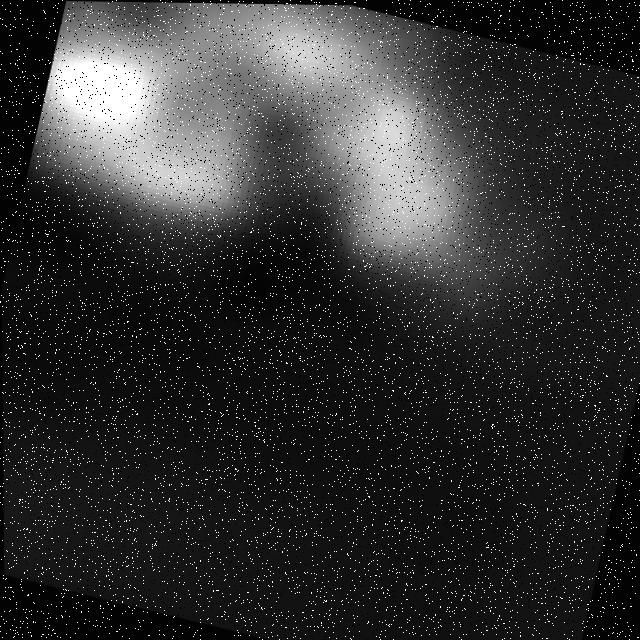person: (11, 1, 574, 361)
